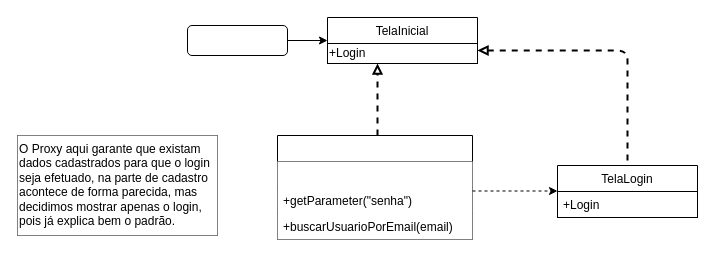
Image size: 715x260. Some labels were removed from this diagram. Each missing label, with the box of its shape:
+getParameter("email"): (277, 161, 472, 187)
Proxy: (276, 134, 472, 240)
Usuário: (186, 24, 288, 56)
